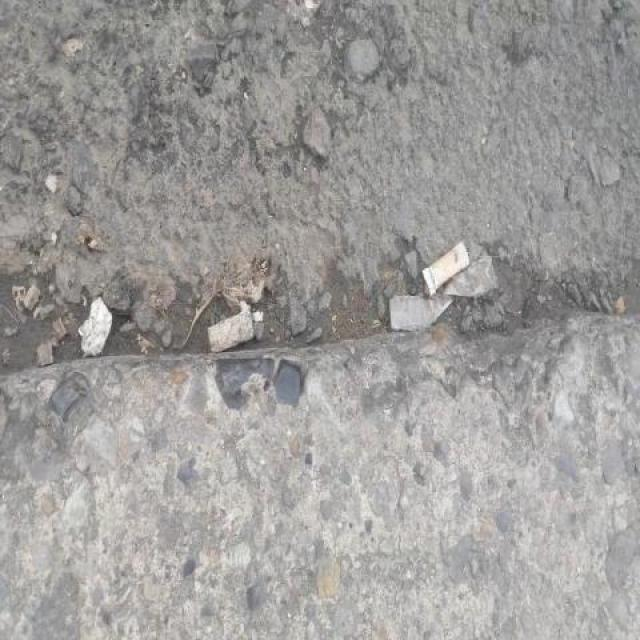non-organic waste: (419, 239, 474, 304)
